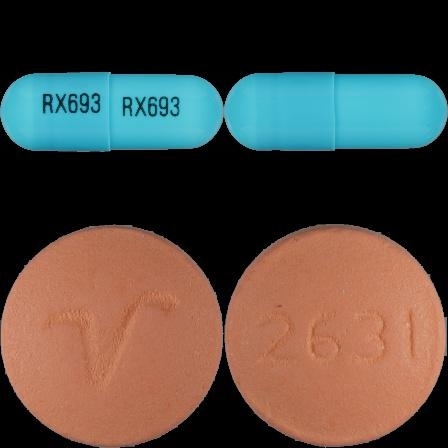50090-0967: (0, 0, 224, 224)
